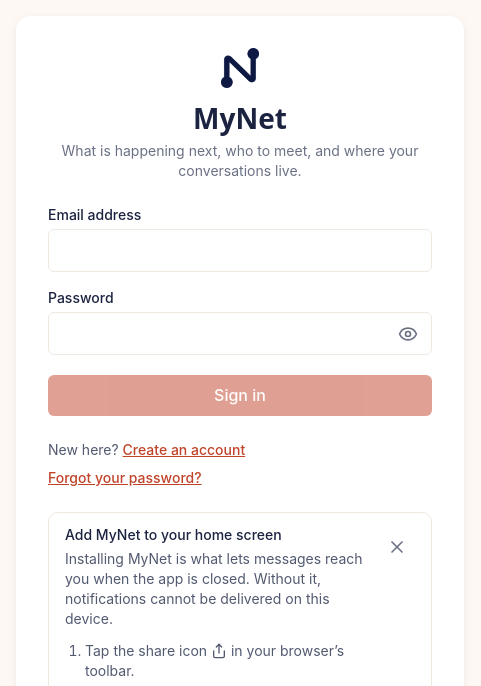
Test: the guidance on the sign-in screen › leaves the sign-in form fully usable (FR-1037)
The width and height of the screenshot is (481, 686).
Expected: the heading "Add MyNet to your home screen" is shown, x1=65 y1=526 x2=282 y2=543
Type "ada@example.com" into the field labelled "Email address".
click(240, 251); type("ada@example.com")  # box x1=48 y1=229 x2=432 y2=272
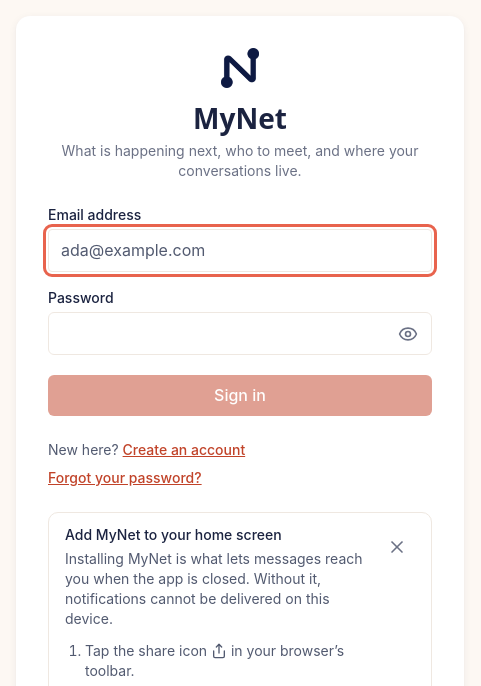
Type "correct-horse-battery-staple" into the password field labelled "Password".
click(240, 334); type("correct-horse-battery-staple")  # box x1=48 y1=312 x2=432 y2=355
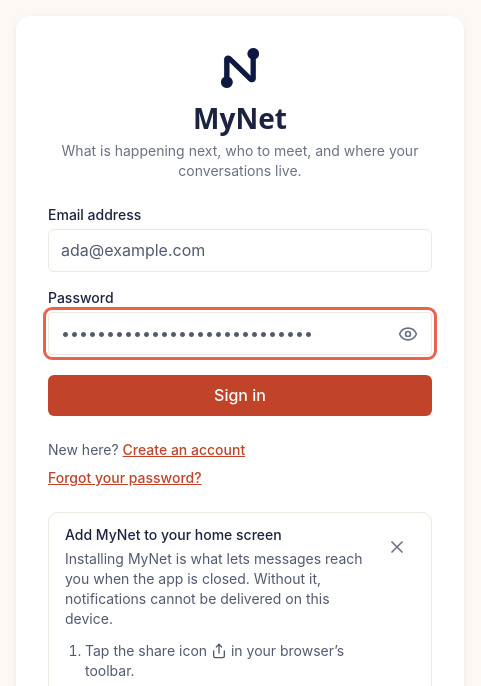
Now the button "Sign in" is enabled, box x1=48 y1=375 x2=432 y2=416
